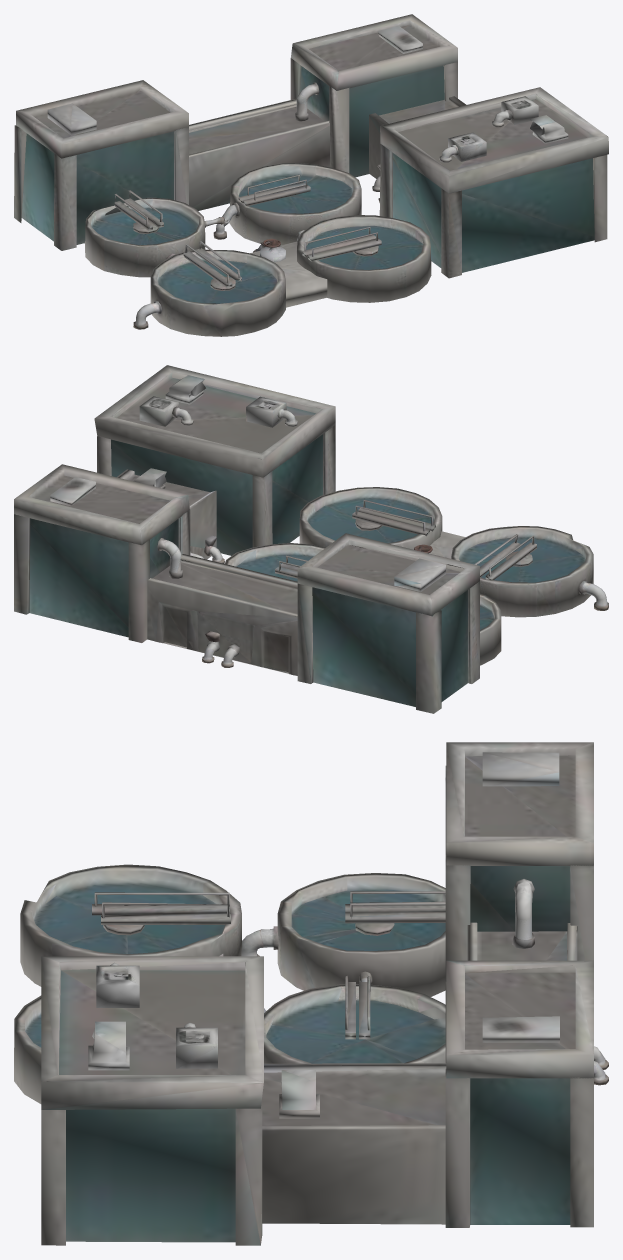
Rendered from 26-water-treatment-plant.glb.
3 renders of one model, top to bottom at view 1: azimuth 30°, elevation 25°; view 2: azimuth 150°, elevation 25°; view 3: azimuth 270°, elevation 25°, orthographic. The views are drawn at different scales.
Visible parts, largest first — view 1: geometry_0; view 2: geometry_0; view 3: geometry_0.
Boxes of the visible parts, left/top/right/bottom form: geometry_0: left=14, top=14, right=608, bottom=336; geometry_0: left=14, top=365, right=608, bottom=713; geometry_0: left=14, top=742, right=608, bottom=1245.
Bounding box in the file's own units: 0.9531 × 0.2343 × 0.6801.
Materials: 1 (1 with a texture image).
